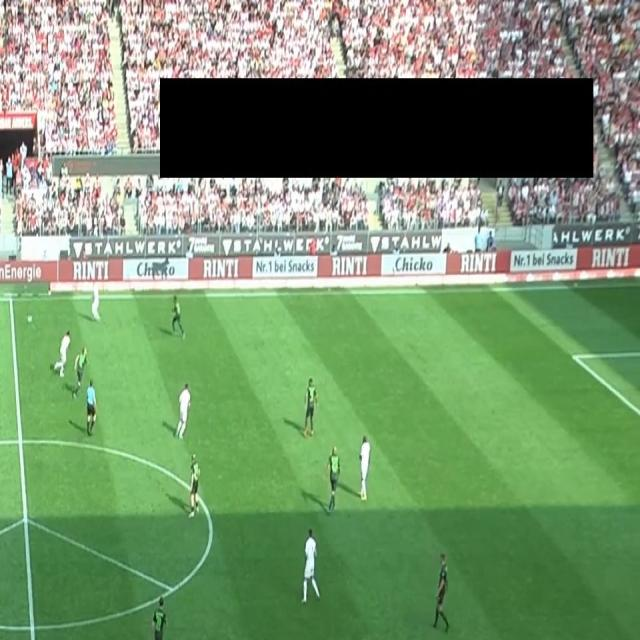ball: (27, 313, 32, 323)
